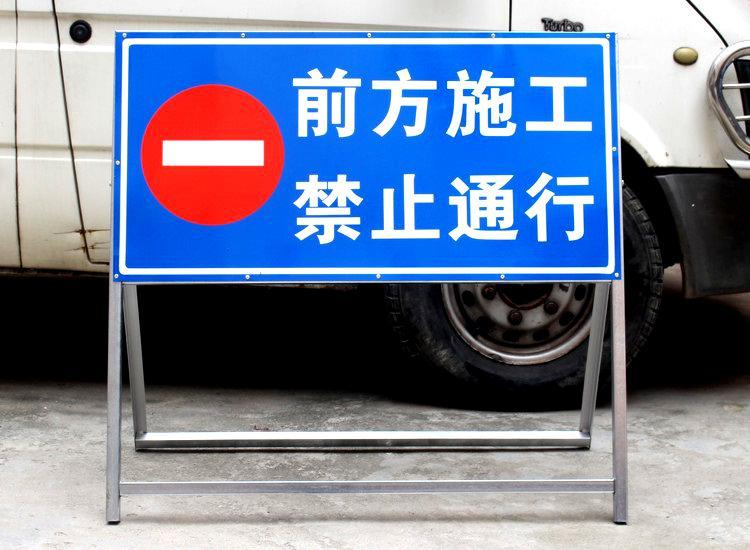sign: (116, 34, 621, 281)
